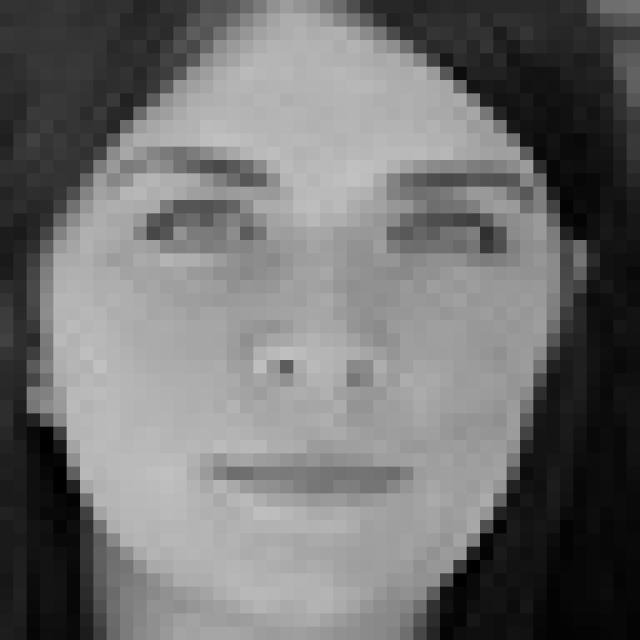neutral: (105, 140, 542, 540)
